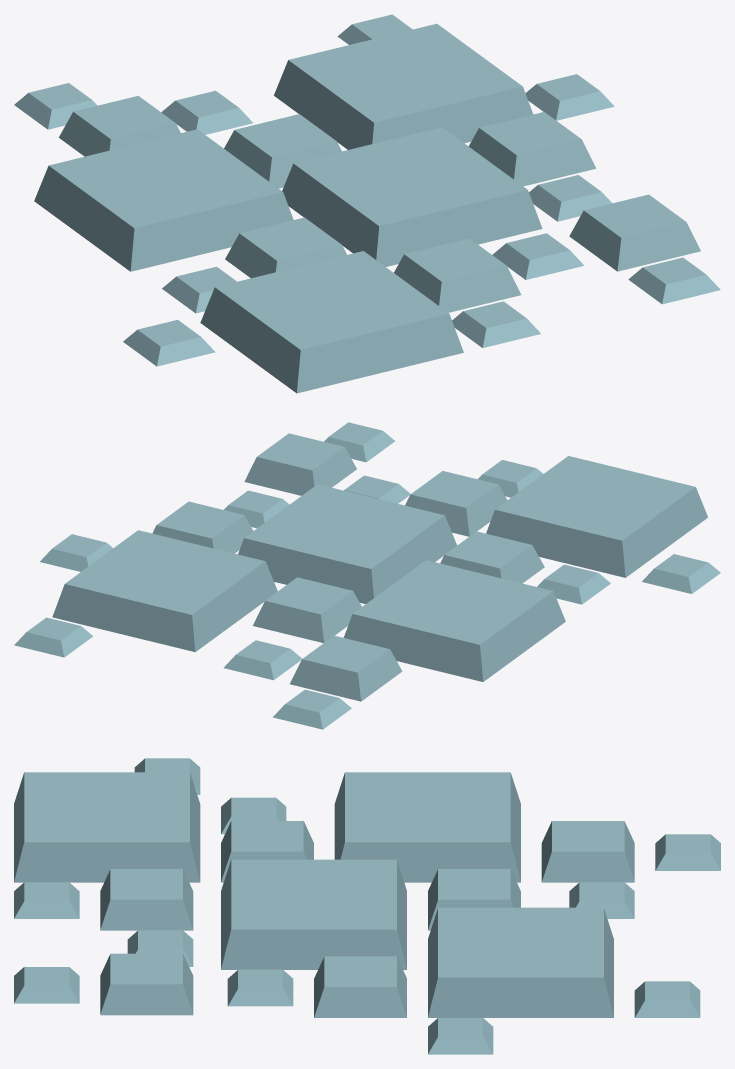
The model's file is road.dae.
The picture shows the model from 3 angles, top to bottom: view 1: azimuth 30°, elevation 25°; view 2: azimuth 150°, elevation 25°; view 3: azimuth 270°, elevation 25°; orthographic projection. The views are drawn at different scales.
Parts seen in each view (by area): view 1: road; view 2: road; view 3: road.
Boxes of the visible parts, <box> form: road: <box>14,14,720,393</box>; road: <box>14,422,720,729</box>; road: <box>14,758,720,1054</box>.
Size of the model in its own units: 0.7407 by 0.0433 by 0.7708.
